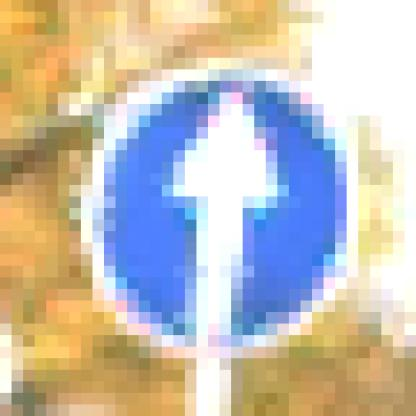AheadOnly: (71, 59, 360, 359)
